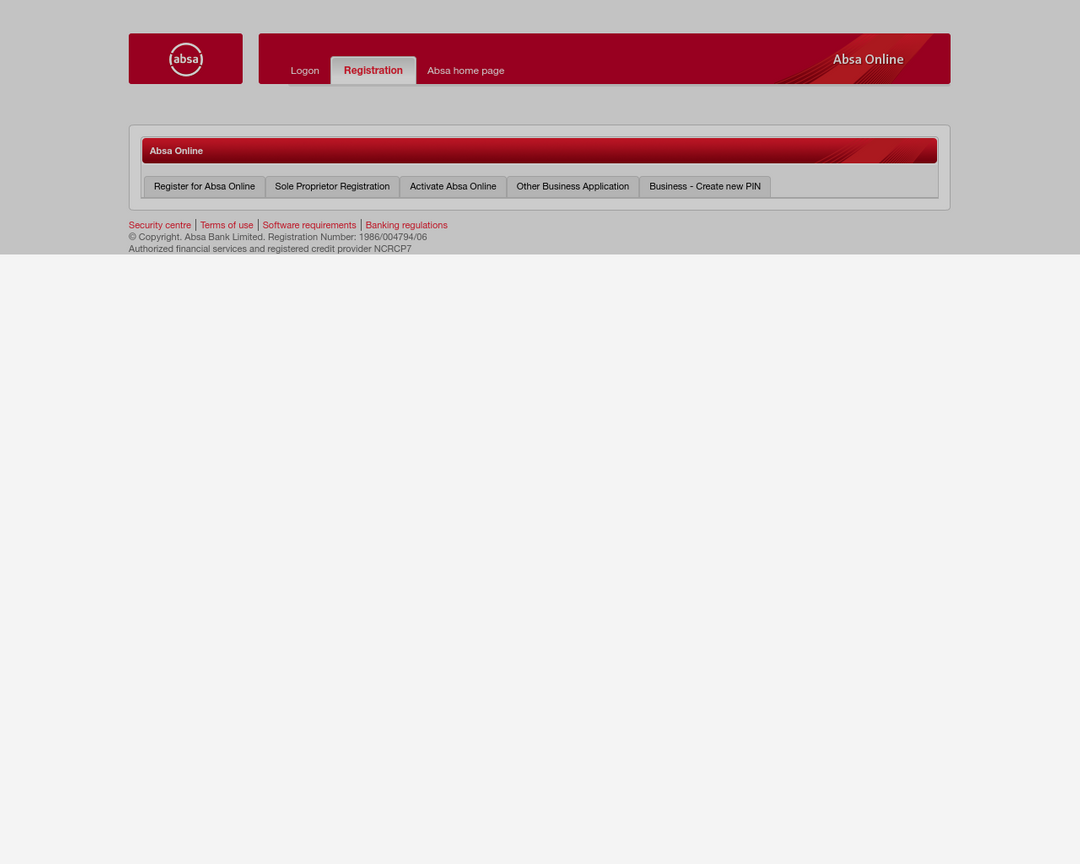ABSA: (167, 40, 206, 79)
